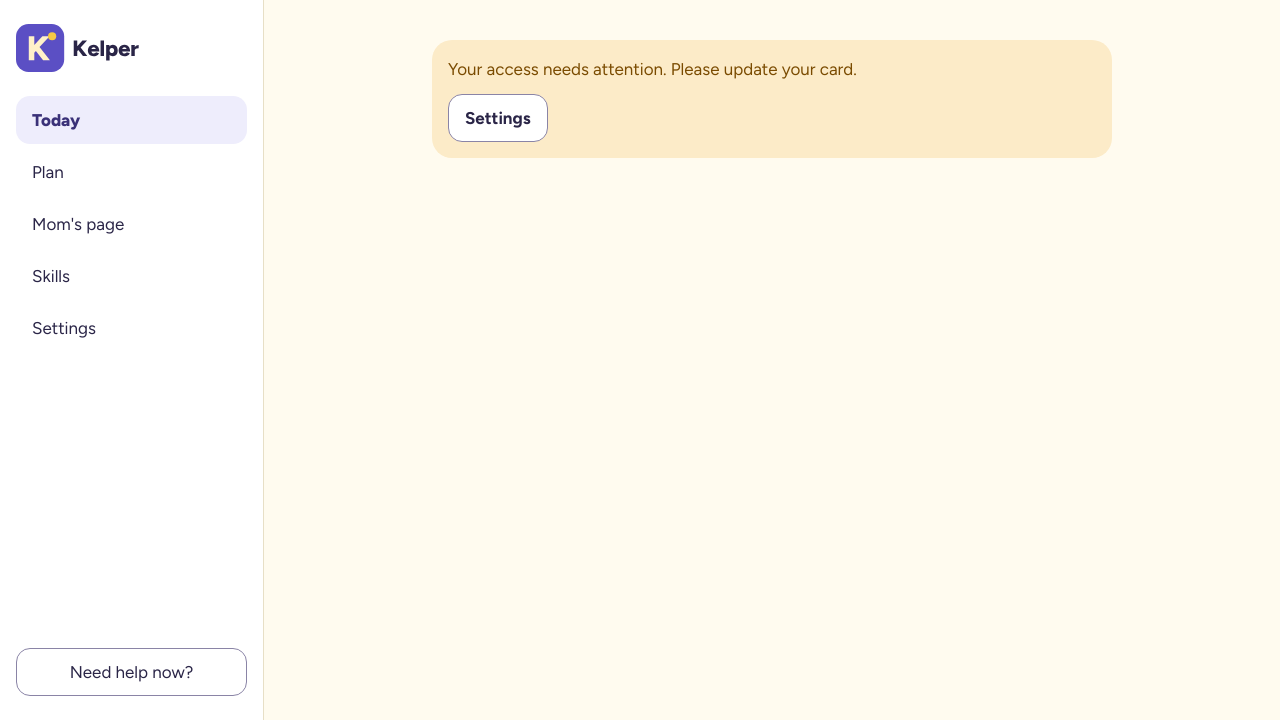
it: app journey, other runs › past_due stays usable: the notice links to Settings, which still opens, and cancel works
The width and height of the screenshot is (1280, 720).
Expected: the message "Your access needs attention. Please update your card. Settings" is shown, [432,40,1112,158]
What coordinates should you click on to do the following:
click the 1st link "Settings"
I would click on:
 (498, 118)
Its box is [448,94,548,142].
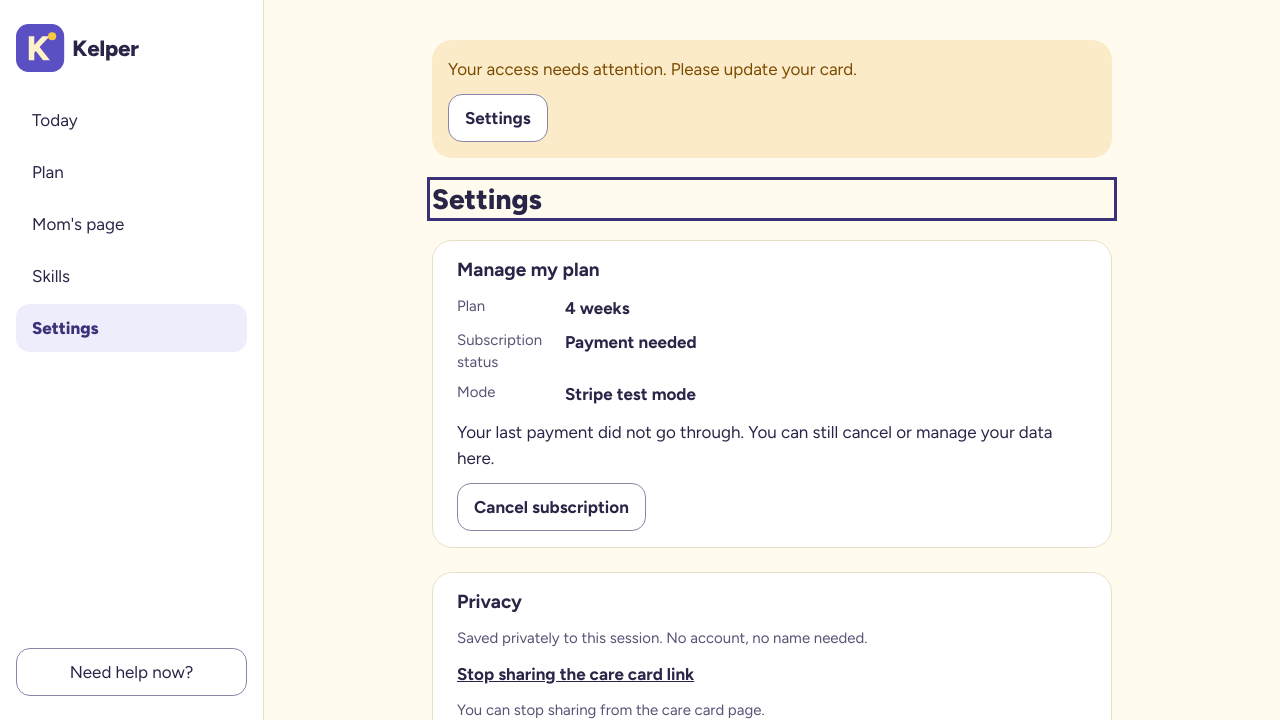
What coordinates should you click on to do the following:
click the link "Cancel subscription"
I would click on:
 (551, 507)
Its box is [457,483,646,531].
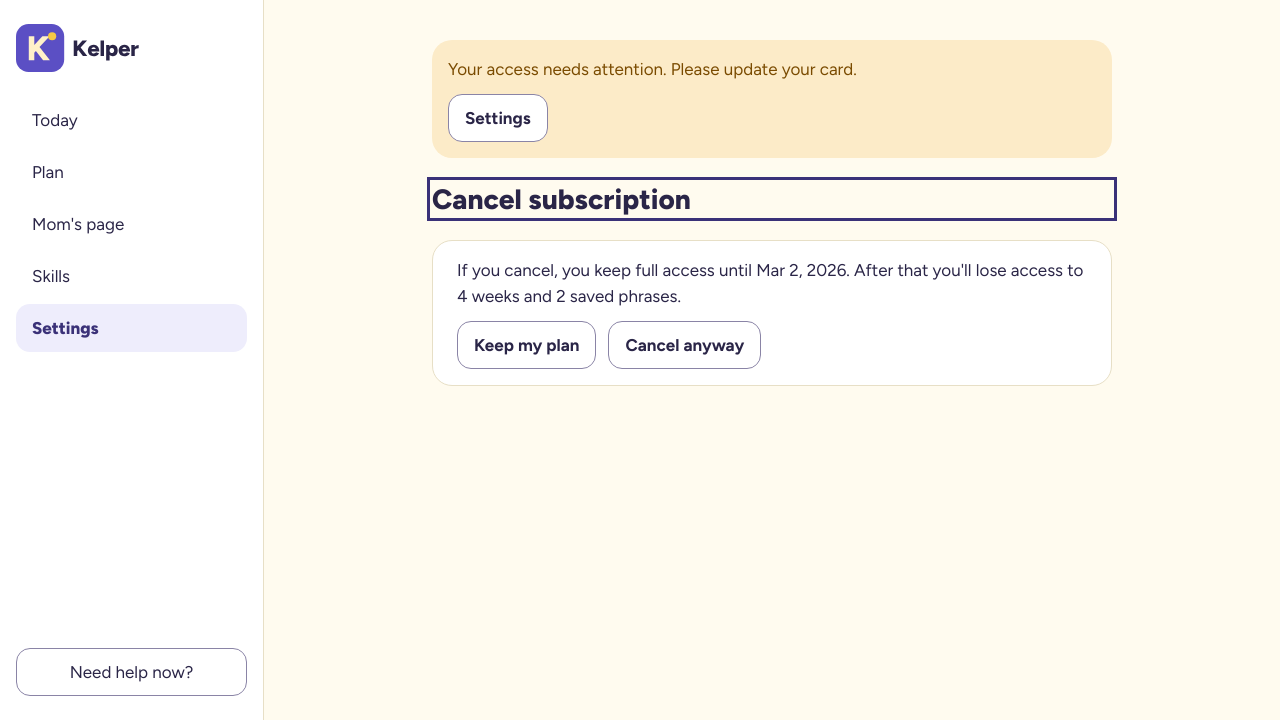
What coordinates should you click on to do the following:
click the button "Cancel anyway"
I would click on:
 (685, 345)
Its box is [608,321,761,369].
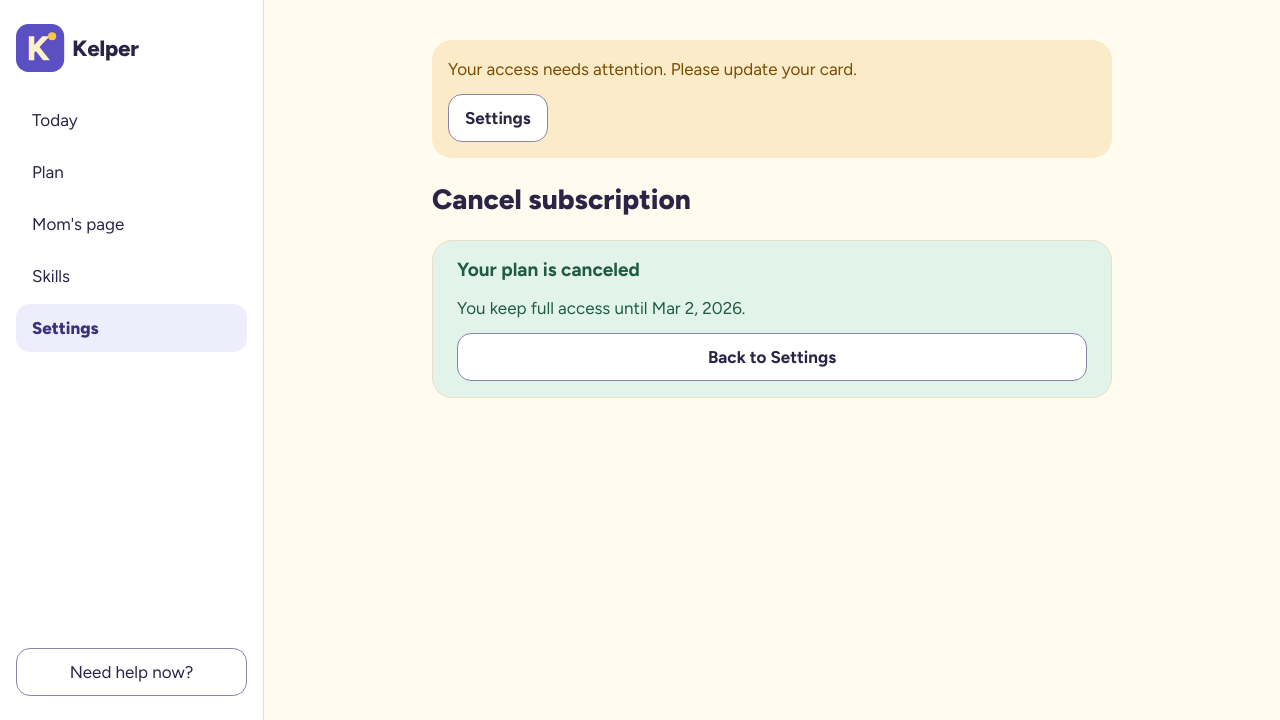
Expected: the heading "Your plan is canceled" is shown, [457,258,640,281]
